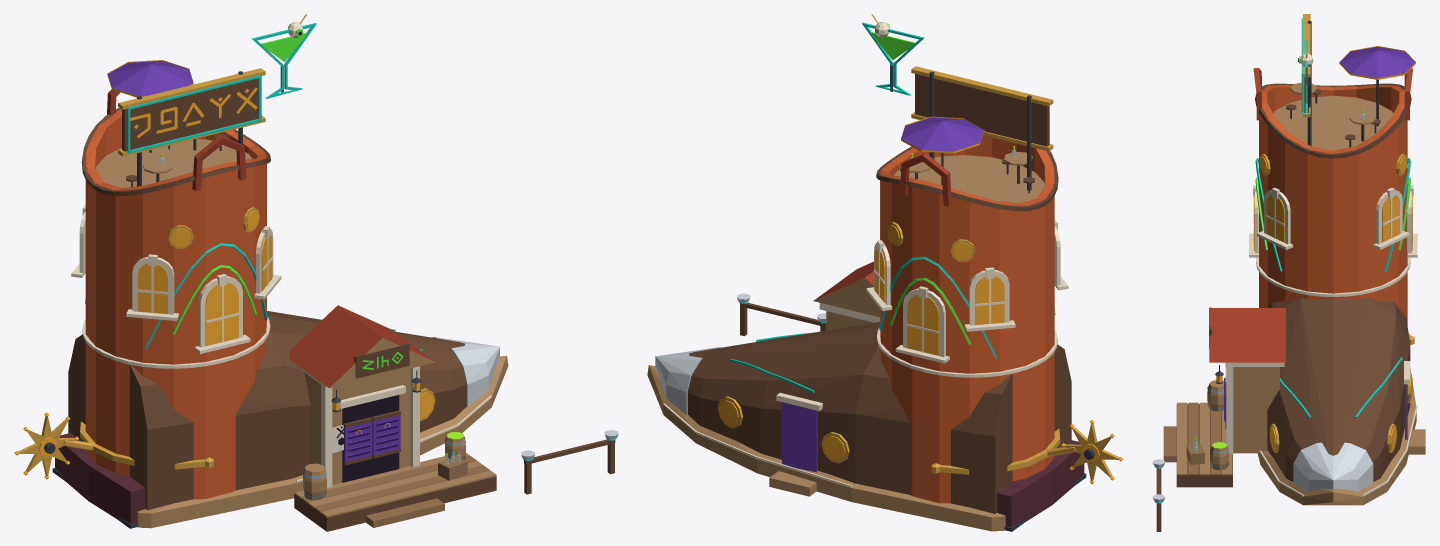
File: Bldg_Saloon.obj
3 renders of one model, left to right at view 1: azimuth 30°, elevation 25°; view 2: azimuth 150°, elevation 25°; view 3: azimuth 270°, elevation 25°, orthographic. The views are drawn at different scales.
Parts seen in each view (by area): view 1: Bldg_Saloon_Body, Bldg_Saloon_Spur, Bldg_Saloon_Door_L, Bldg_Saloon_Door_R; view 2: Bldg_Saloon_Body, Bldg_Saloon_Spur; view 3: Bldg_Saloon_Body.
Boxes of the visible parts, box(x1,y1,x2,y2) form: Bldg_Saloon_Body: box(44, 14, 618, 531); Bldg_Saloon_Spur: box(14, 412, 78, 479); Bldg_Saloon_Door_L: box(343, 417, 372, 465); Bldg_Saloon_Door_R: box(372, 410, 400, 458); Bldg_Saloon_Body: box(647, 14, 1094, 531); Bldg_Saloon_Spur: box(1061, 420, 1122, 484); Bldg_Saloon_Body: box(1152, 14, 1425, 531).
Size of the model in its own units: 16.83 by 14.42 by 9.24.
